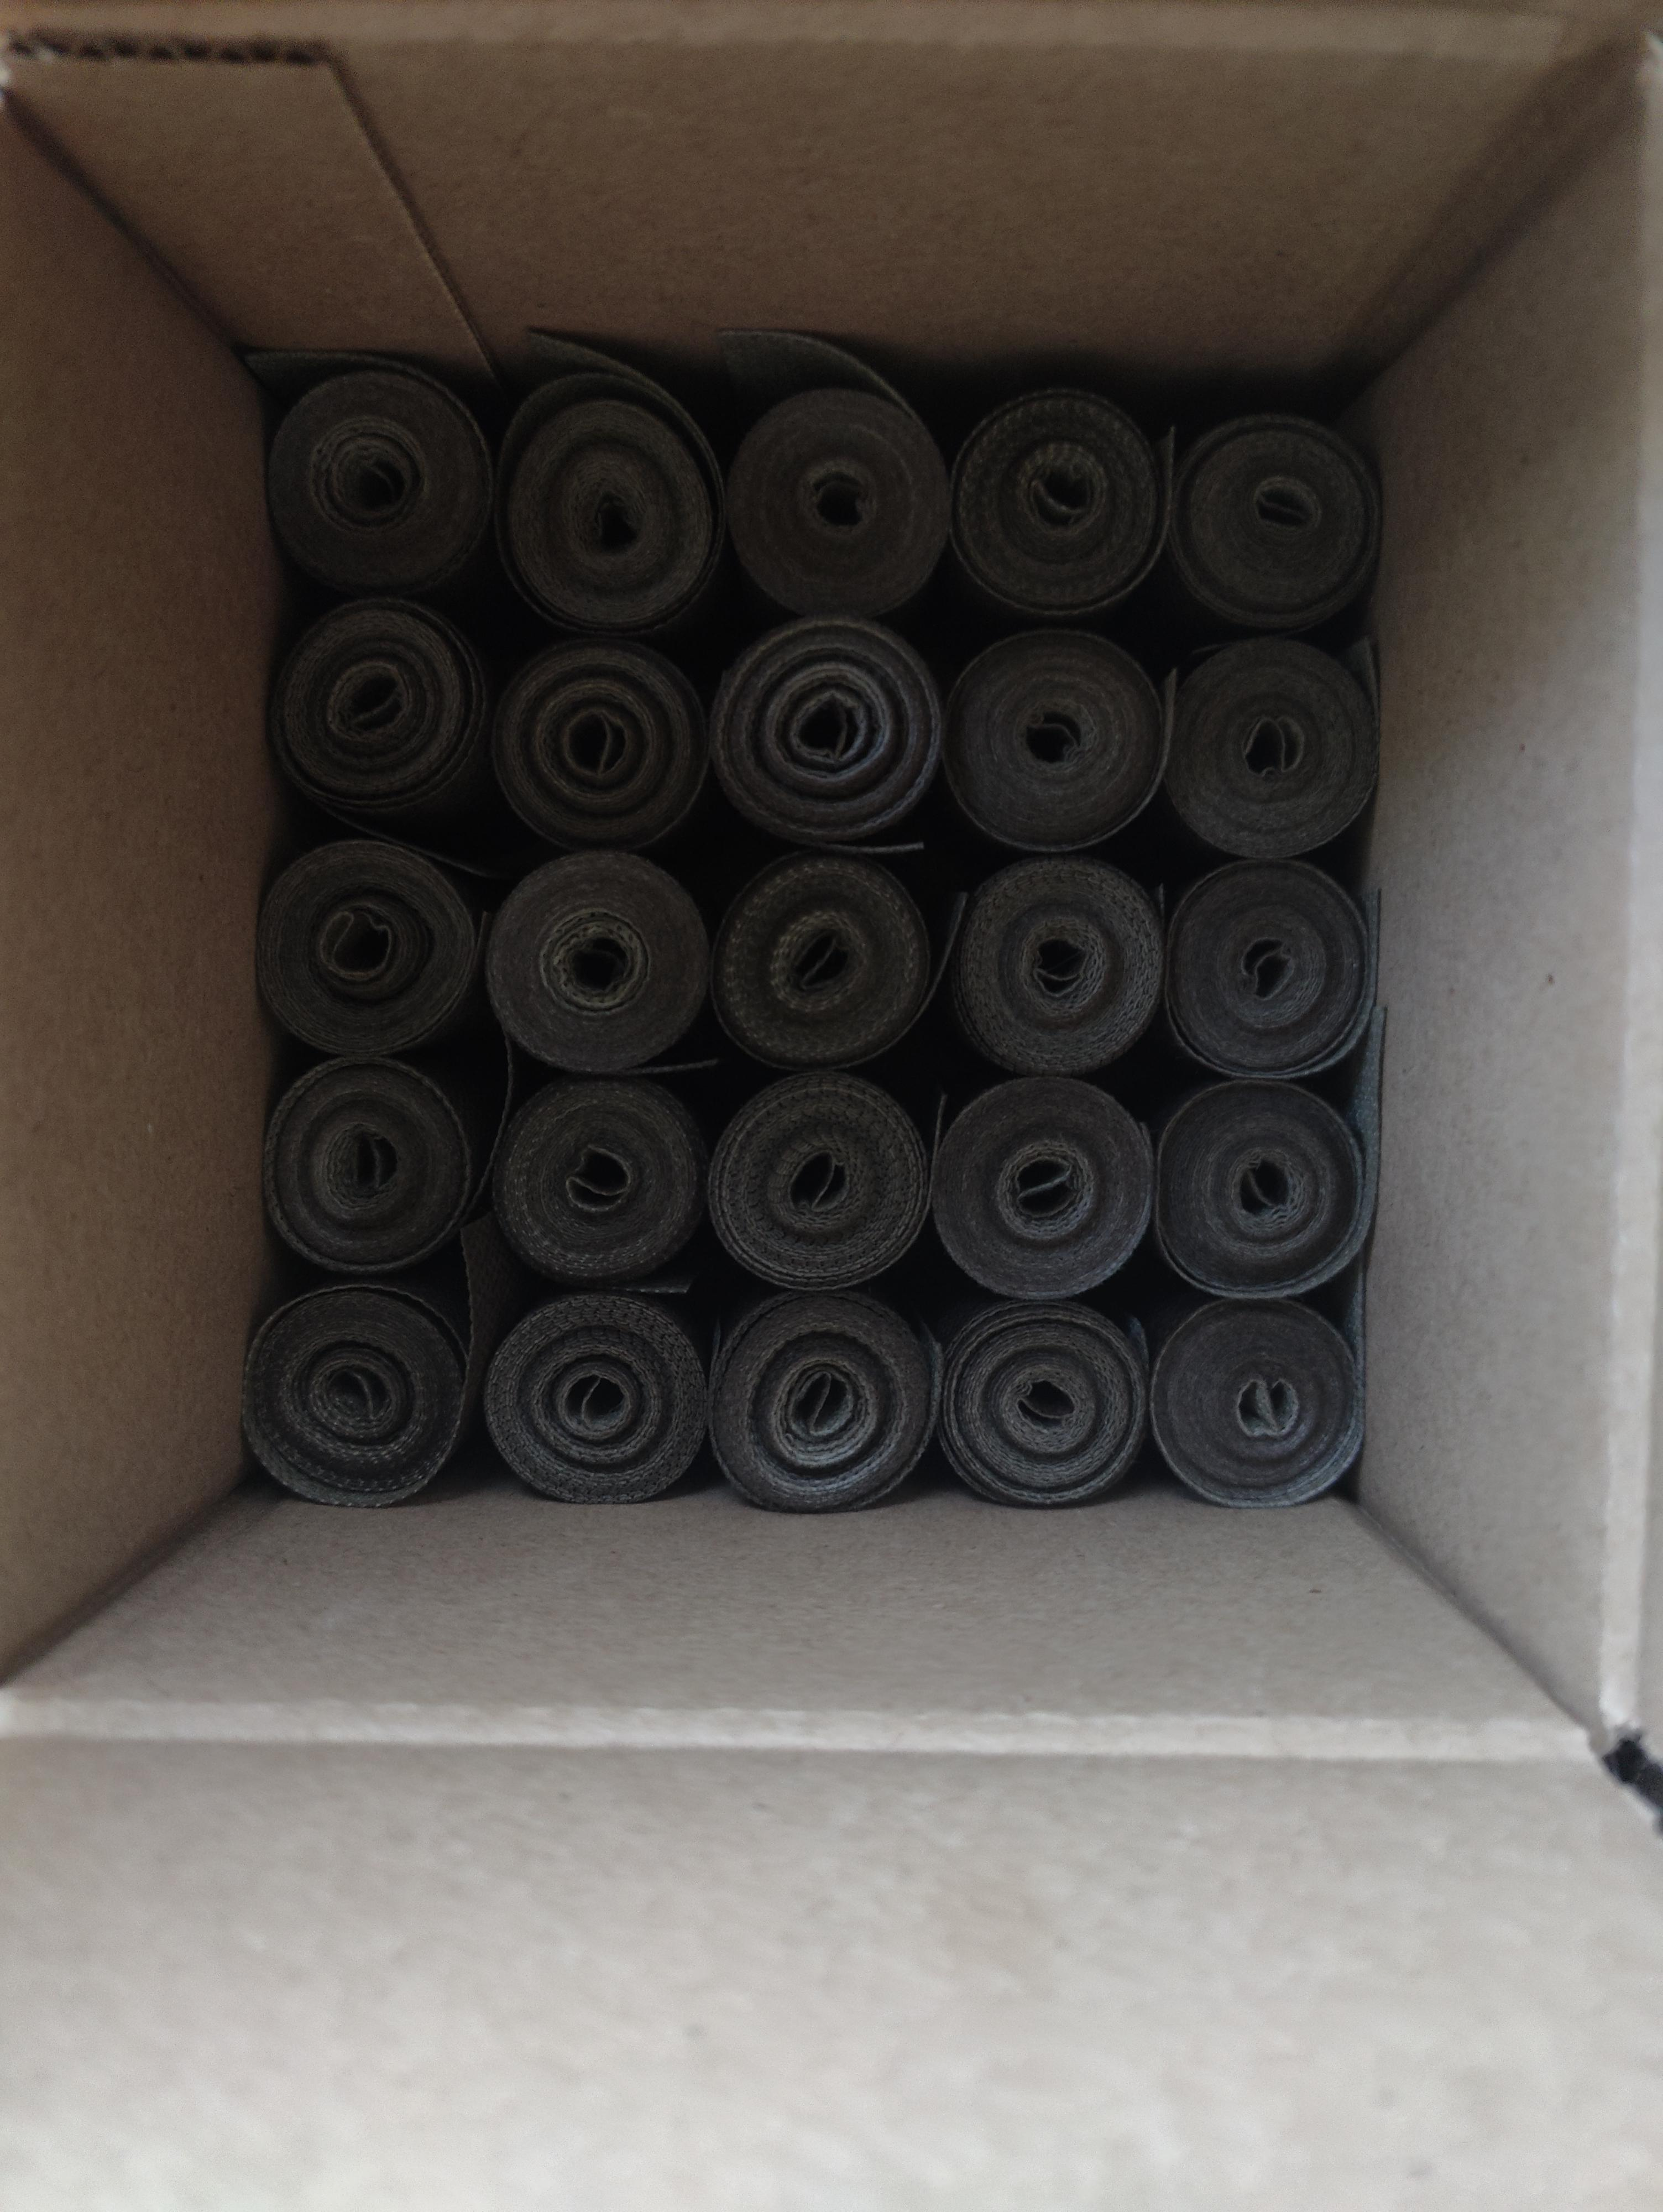roll: (498, 370, 725, 631), (241, 1279, 472, 1513), (942, 847, 1169, 1085), (702, 626, 945, 846), (727, 384, 950, 619), (487, 854, 716, 1082), (706, 1293, 940, 1515), (253, 837, 480, 1061), (1158, 1076, 1382, 1302), (954, 388, 1176, 613), (709, 1071, 933, 1293), (491, 636, 707, 865), (943, 631, 1163, 854), (713, 851, 936, 1071), (933, 1075, 1153, 1296), (1172, 636, 1385, 865), (1165, 853, 1375, 1082), (255, 1061, 475, 1275), (480, 1296, 704, 1506), (266, 598, 480, 811), (1155, 1298, 1368, 1511), (491, 1071, 711, 1275), (1181, 414, 1387, 631), (943, 1300, 1153, 1508), (276, 376, 487, 580)
